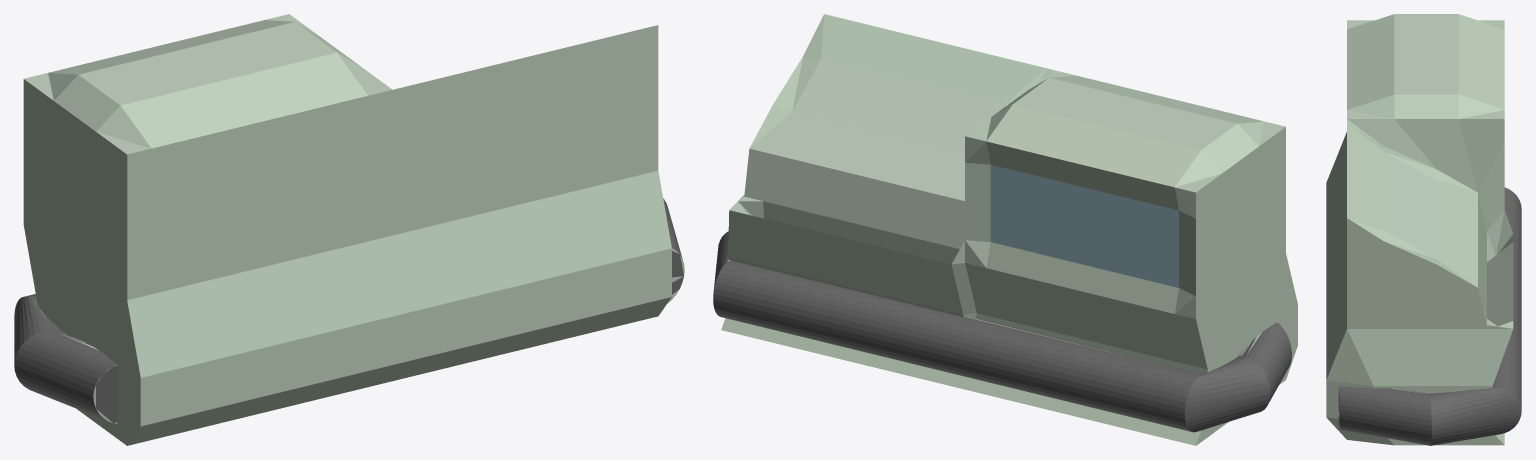
Rendered from drukarka.fbx.
3 views of the same model, side by side, from view 1: azimuth 30°, elevation 25°; view 2: azimuth 150°, elevation 25°; view 3: azimuth 270°, elevation 25° (orthographic). The views are drawn at different scales.
Visible parts, largest first — view 1: Cube; view 2: Cube; view 3: Cube.
Boxes of the visible parts, <box> form: Cube: <box>14,14,684,445</box>; Cube: <box>713,14,1297,445</box>; Cube: <box>1326,14,1521,445</box>.
Bounding box in the file's own units: 719 × 332 × 248.
